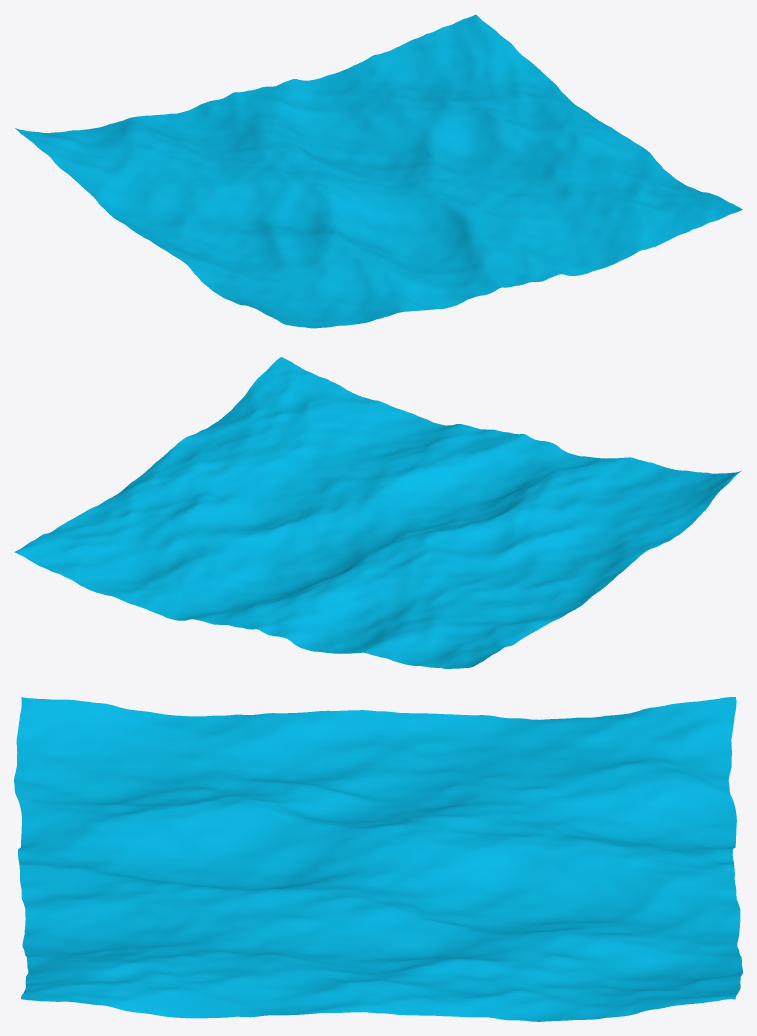
The model's file is OnceanoTeste.fbx.
3 renders of one model, top to bottom at view 1: azimuth 30°, elevation 25°; view 2: azimuth 150°, elevation 25°; view 3: azimuth 270°, elevation 25°, orthographic. The views are drawn at different scales.
Visible parts, largest first — view 1: MarCalmo; view 2: MarCalmo; view 3: MarCalmo.
Part boxes in pixels (x1,y1,x2,y2): MarCalmo: (15,14,742,328); MarCalmo: (14,357,741,668); MarCalmo: (14,697,742,1021).
Size of the model in its own units: 5090 by 315 by 5099.
